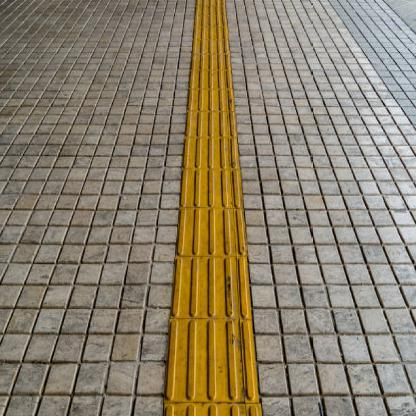podotacti: (165, 0, 263, 416)
